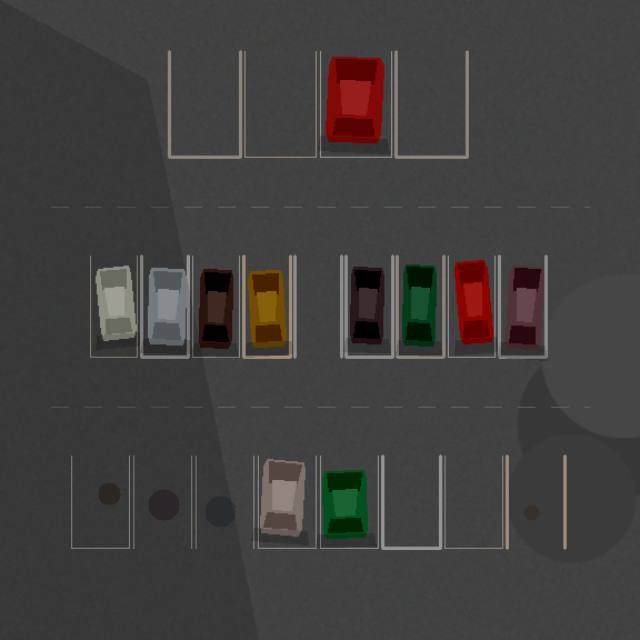space-empty: (244, 51, 316, 157), (169, 51, 240, 157), (396, 51, 467, 157), (71, 456, 129, 548), (133, 456, 191, 548), (382, 456, 440, 548), (444, 456, 502, 548), (196, 456, 253, 548), (507, 456, 564, 548), (294, 256, 341, 357)
space-occupied: (320, 51, 391, 157), (258, 456, 316, 548), (320, 456, 378, 548), (90, 256, 137, 357), (141, 256, 188, 357), (192, 256, 239, 357), (243, 256, 290, 357), (499, 256, 546, 357), (346, 256, 392, 357), (397, 256, 443, 357), (448, 256, 494, 357)
